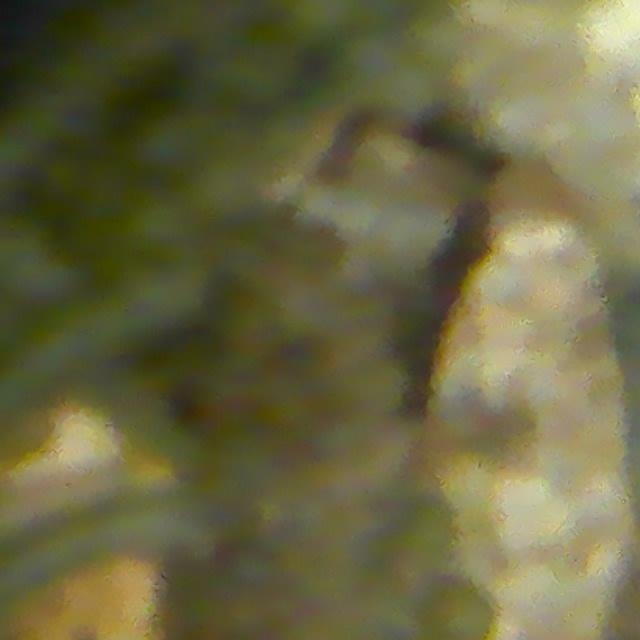SeaGrape: (120, 188, 199, 265), (131, 109, 212, 184), (417, 571, 496, 640)
